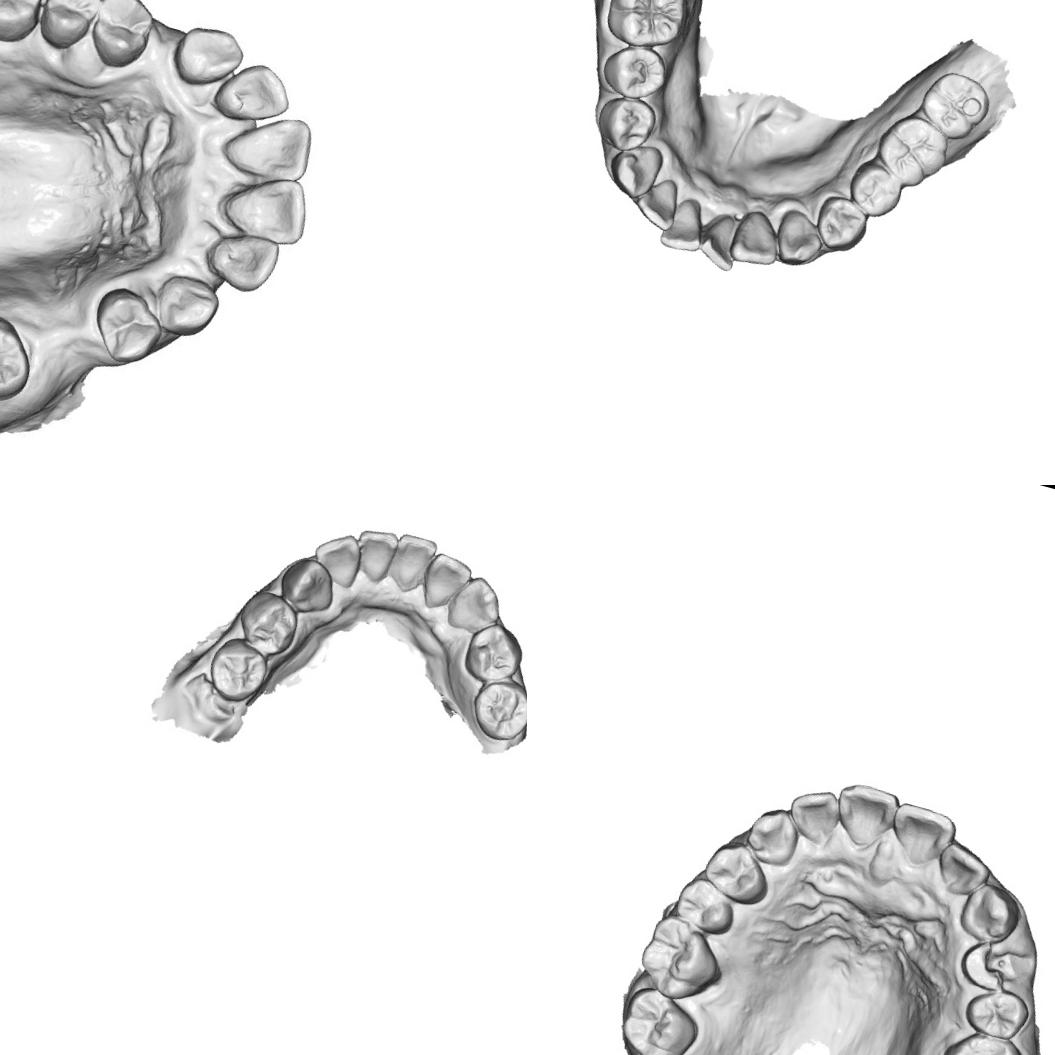canine: (164, 12, 250, 98), (148, 268, 224, 342), (953, 877, 1027, 951), (272, 551, 344, 618), (442, 570, 510, 640), (739, 799, 806, 870), (602, 134, 666, 202), (768, 206, 830, 272)
incisor: (217, 99, 322, 188), (216, 162, 314, 252), (207, 51, 301, 134), (195, 222, 288, 300), (825, 776, 902, 854), (884, 798, 960, 866), (781, 780, 846, 848), (930, 836, 996, 902), (724, 204, 787, 272), (415, 548, 474, 614), (307, 525, 368, 587), (656, 192, 712, 256), (384, 530, 440, 593), (692, 208, 745, 274), (630, 170, 684, 234), (350, 525, 404, 584)
molar: (631, 909, 735, 1011), (868, 106, 955, 194), (611, 981, 709, 1055), (913, 64, 996, 147), (598, 0, 695, 56), (0, 299, 43, 411), (928, 1021, 1030, 1055), (0, 0, 53, 50)
premolar: (81, 278, 168, 370), (78, 0, 161, 75), (696, 836, 778, 908), (232, 584, 306, 661), (201, 630, 274, 708), (596, 36, 674, 107), (589, 87, 662, 157), (458, 617, 527, 689), (668, 872, 742, 938), (958, 981, 1034, 1045), (841, 155, 909, 224), (466, 673, 527, 748), (29, 0, 107, 57), (809, 190, 873, 258)
